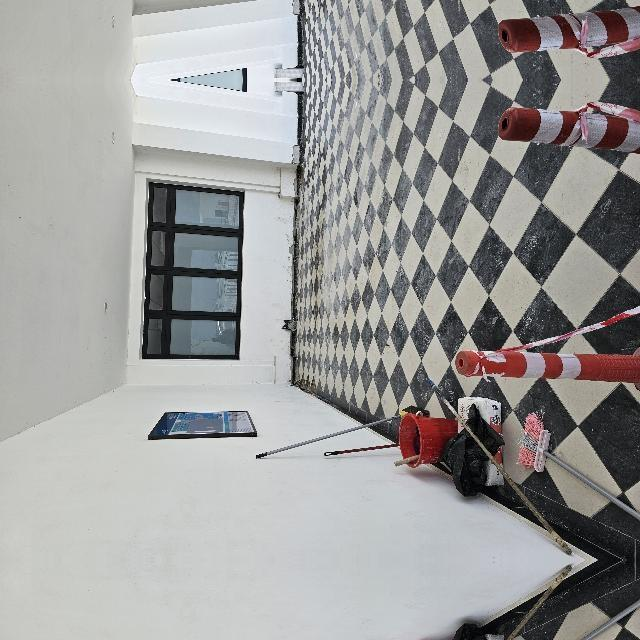obstacle: (70, 332, 169, 640), (70, 404, 169, 640), (403, 402, 461, 546), (178, 400, 222, 582), (178, 538, 221, 640), (403, 574, 461, 640)
